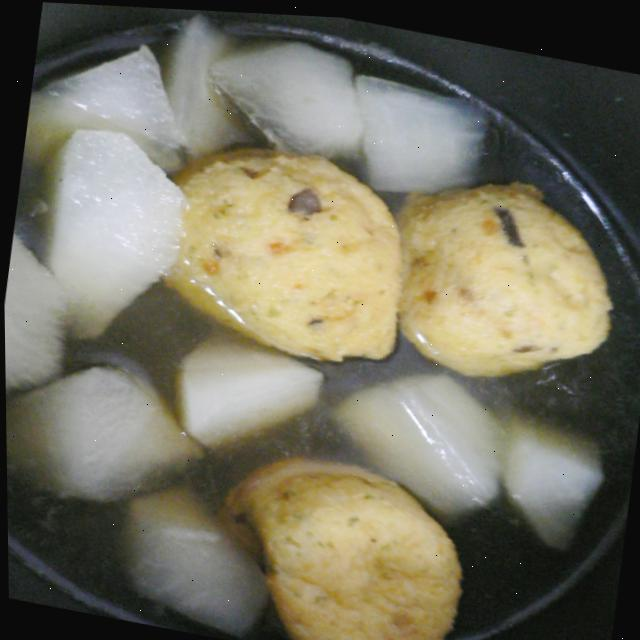熟制海鲜: (124, 113, 640, 640)
